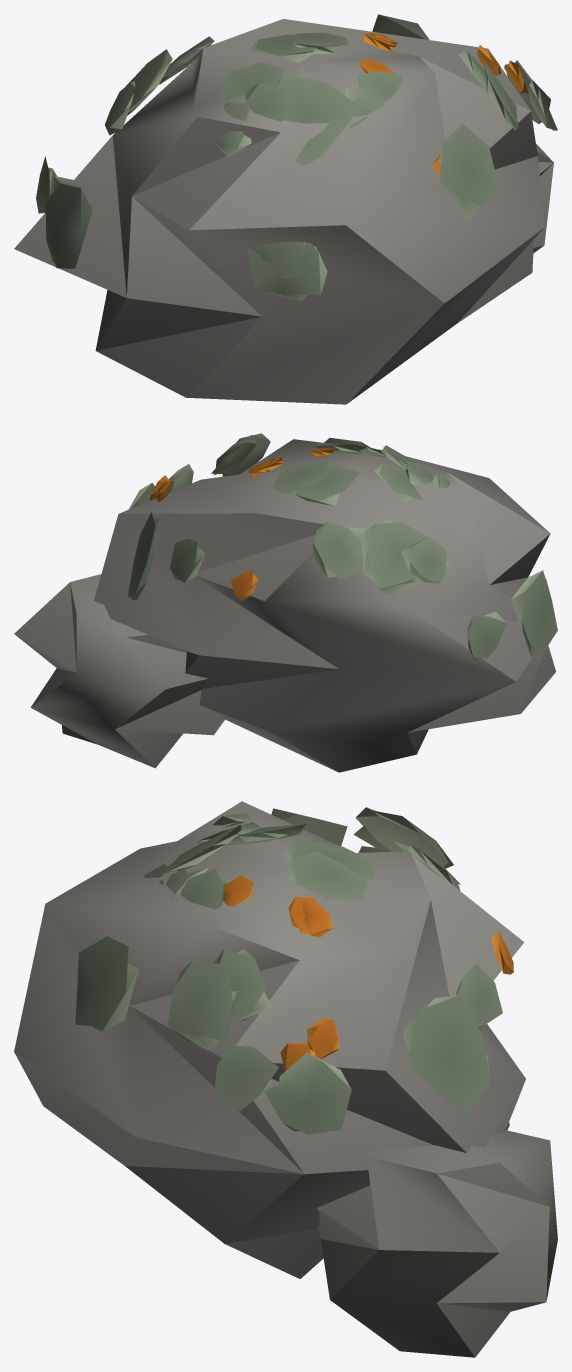
File: crotal_stone.glb
3 renders of one model, top to bottom at view 1: azimuth 30°, elevation 25°; view 2: azimuth 150°, elevation 25°; view 3: azimuth 270°, elevation 25°, orthographic. The views are drawn at different scales.
Visible parts, largest first — view 1: crotal_stone; view 2: crotal_stone; view 3: crotal_stone.
Part boxes in pixels (<box>): crotal_stone: <box>14,14,557,404</box>; crotal_stone: <box>14,433,557,772</box>; crotal_stone: <box>14,801,557,1357</box>.
Size of the model in its own units: 1.12 by 0.6423 by 0.8459.
